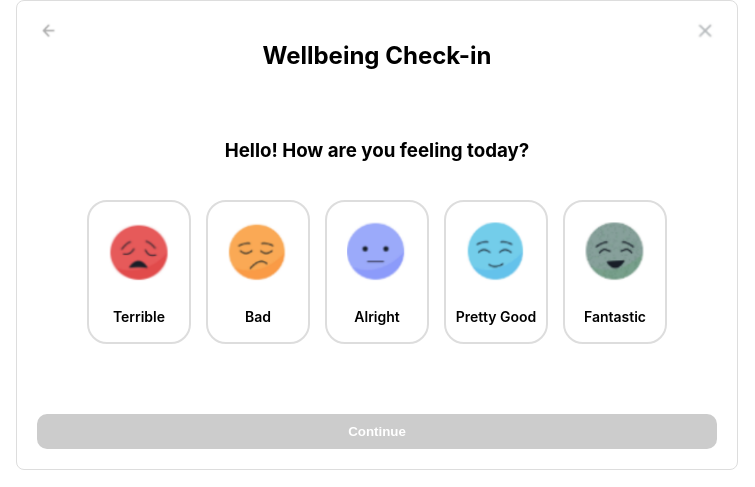
Test: enables submit button after selecting an emoji
Step 1. Click the text "Pretty Good" → (496, 316), box [456,308,536,325]
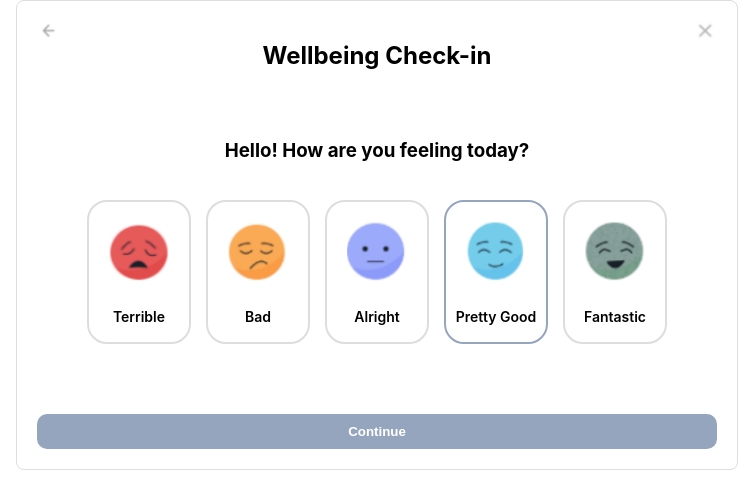
Expected: the button "Continue" is enabled, [37,414,717,449]
